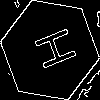H: (25, 25, 78, 76)
